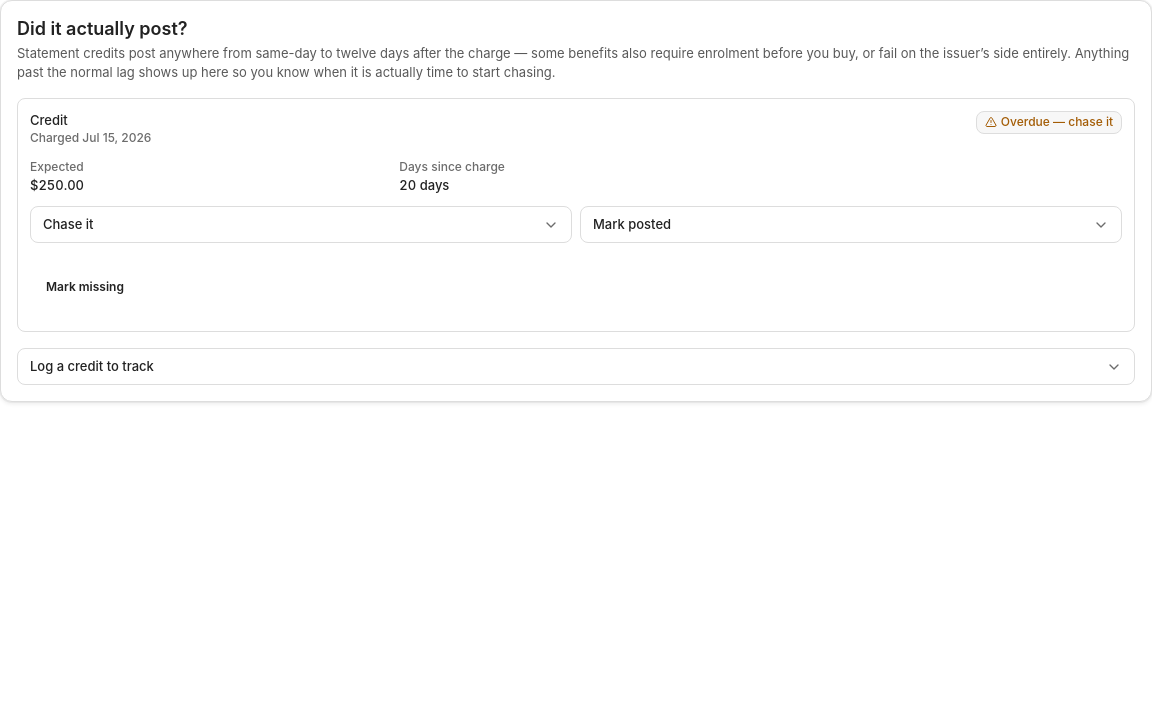
Test case: CreditPostingTracker — mark posted / mark missing › marks a credit posted with the current expected amount and refreshes
Click the button "Mark posted" at point(632, 224), box [581,207,1121,242]
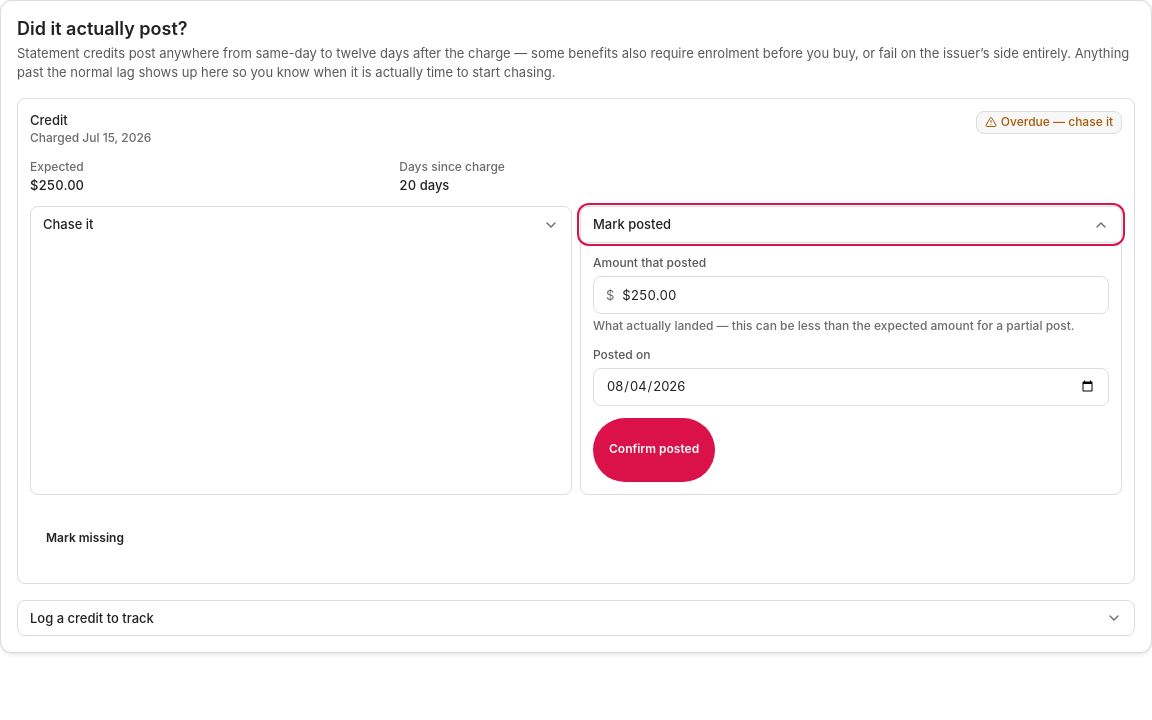
Click the button "Confirm posted" at point(654, 450), box [593,418,715,482]
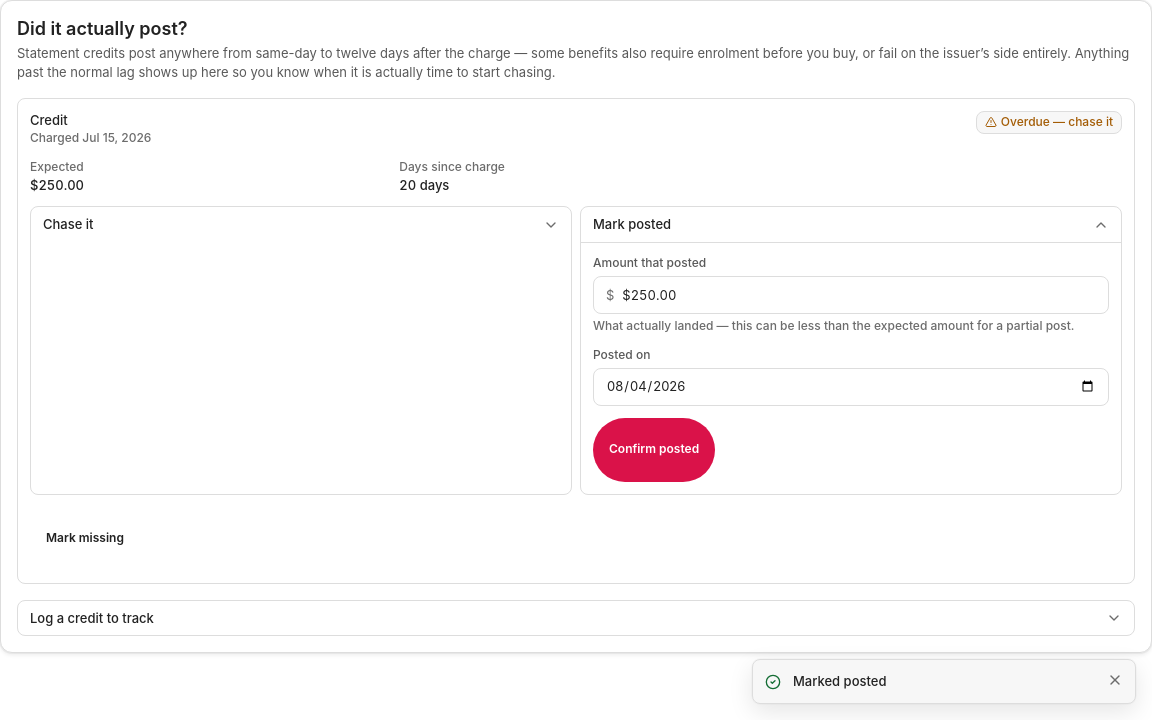
Check: the text "Marked posted" is shown, box [793,673,886,689]
